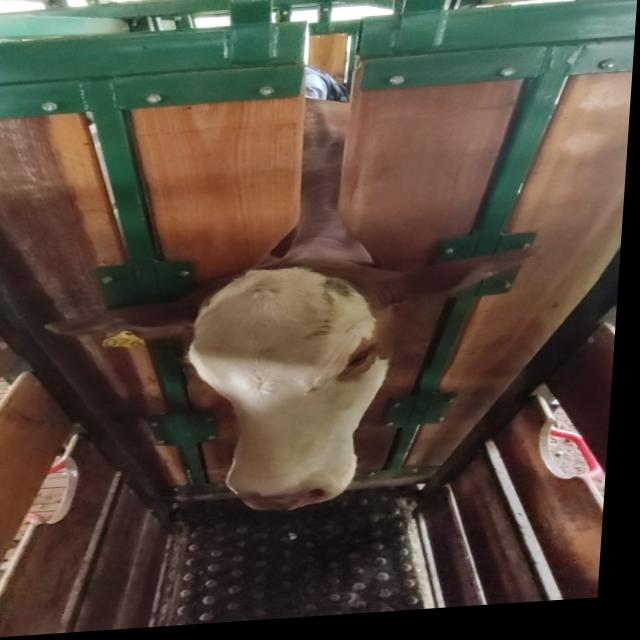cowFace: (183, 262, 402, 518)
